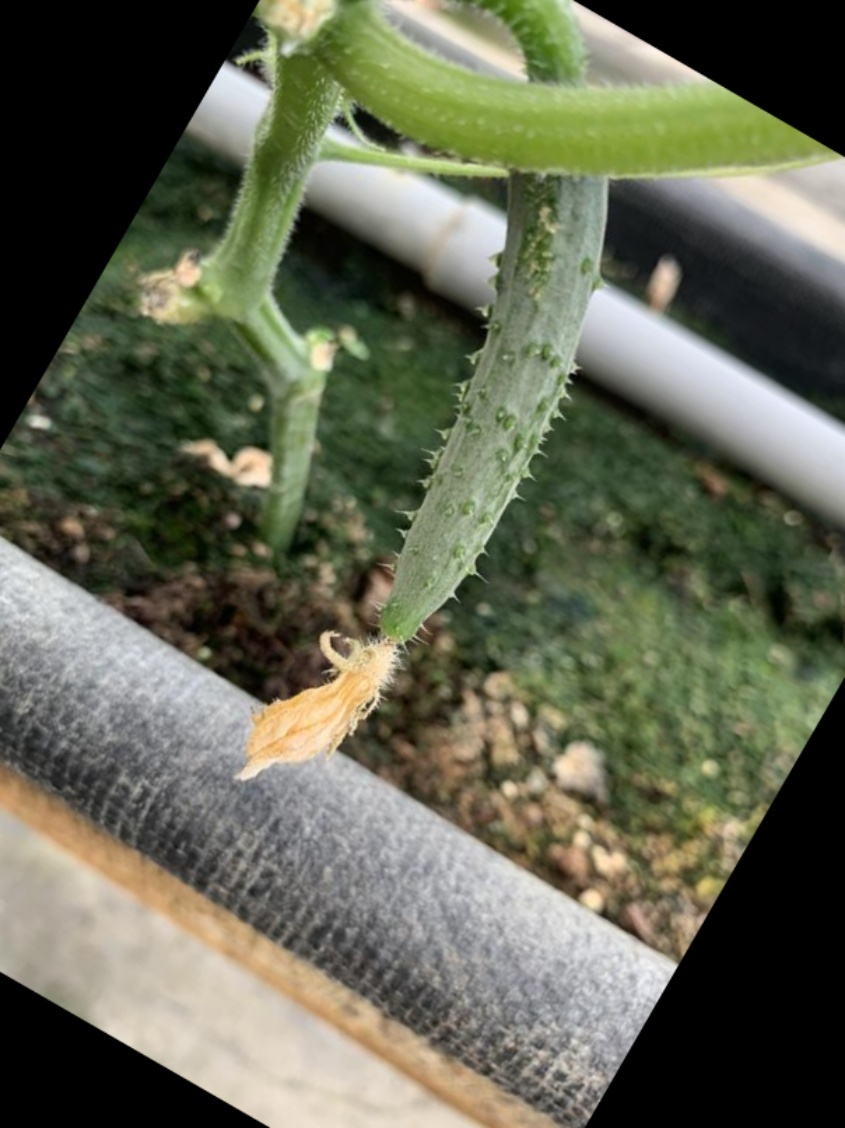bear: (253, 155, 636, 779)
